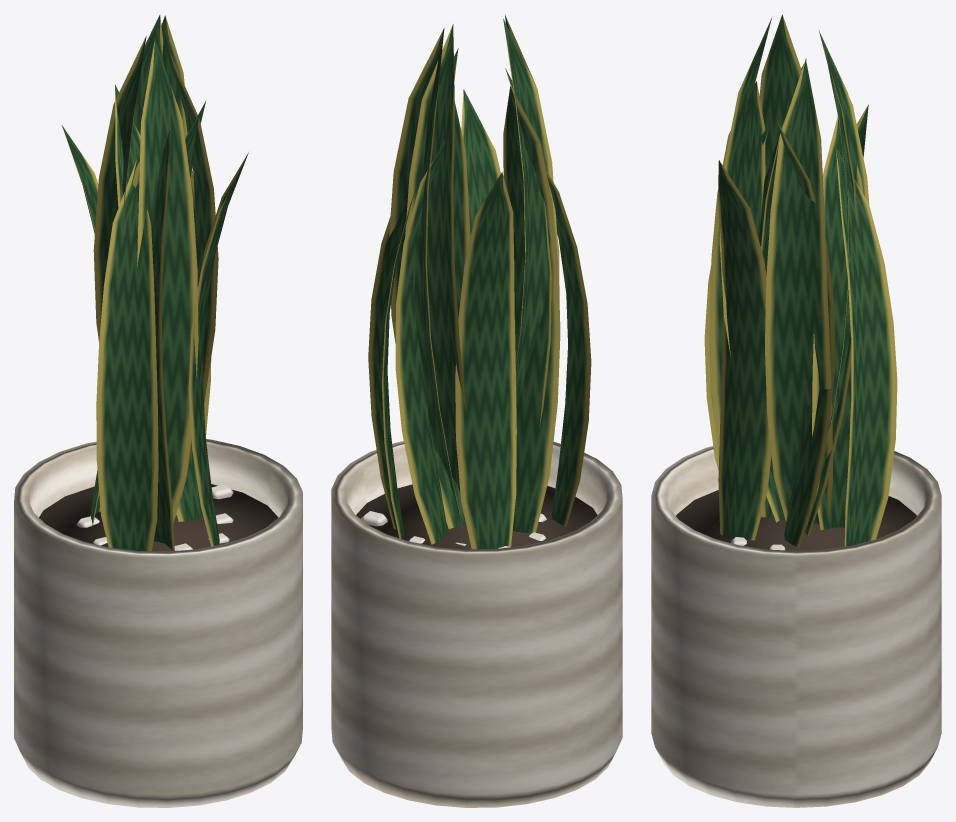
File: obj_plant_sansevieria_snake.glb
3 views of the same model, side by side, from view 1: azimuth 30°, elevation 25°; view 2: azimuth 150°, elevation 25°; view 3: azimuth 270°, elevation 25° (orthographic).
Parts seen in each view (by area): view 1: obj_plant_sansevieria_snake; view 2: obj_plant_sansevieria_snake; view 3: obj_plant_sansevieria_snake.
Part boxes in pixels (left/top/right/bottom): obj_plant_sansevieria_snake: left=14, top=15, right=302, bottom=807; obj_plant_sansevieria_snake: left=331, top=15, right=622, bottom=807; obj_plant_sansevieria_snake: left=651, top=14, right=941, bottom=807.
Bounding box in the file's own units: 0.31 × 0.8569 × 0.31.
Materials: 4 (2 with a texture image).
